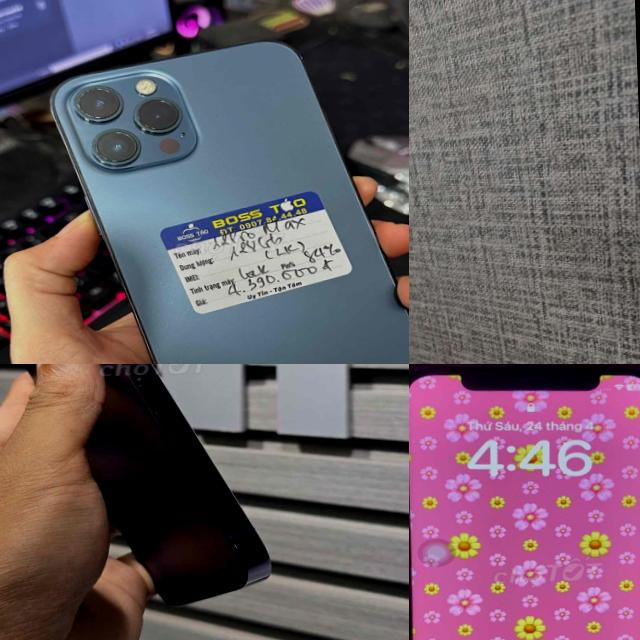gen_12_13: (44, 32, 409, 364)
gen_14: (0, 364, 282, 620)
gen_x_xs: (409, 364, 640, 640)
scratch: (409, 364, 435, 378)
